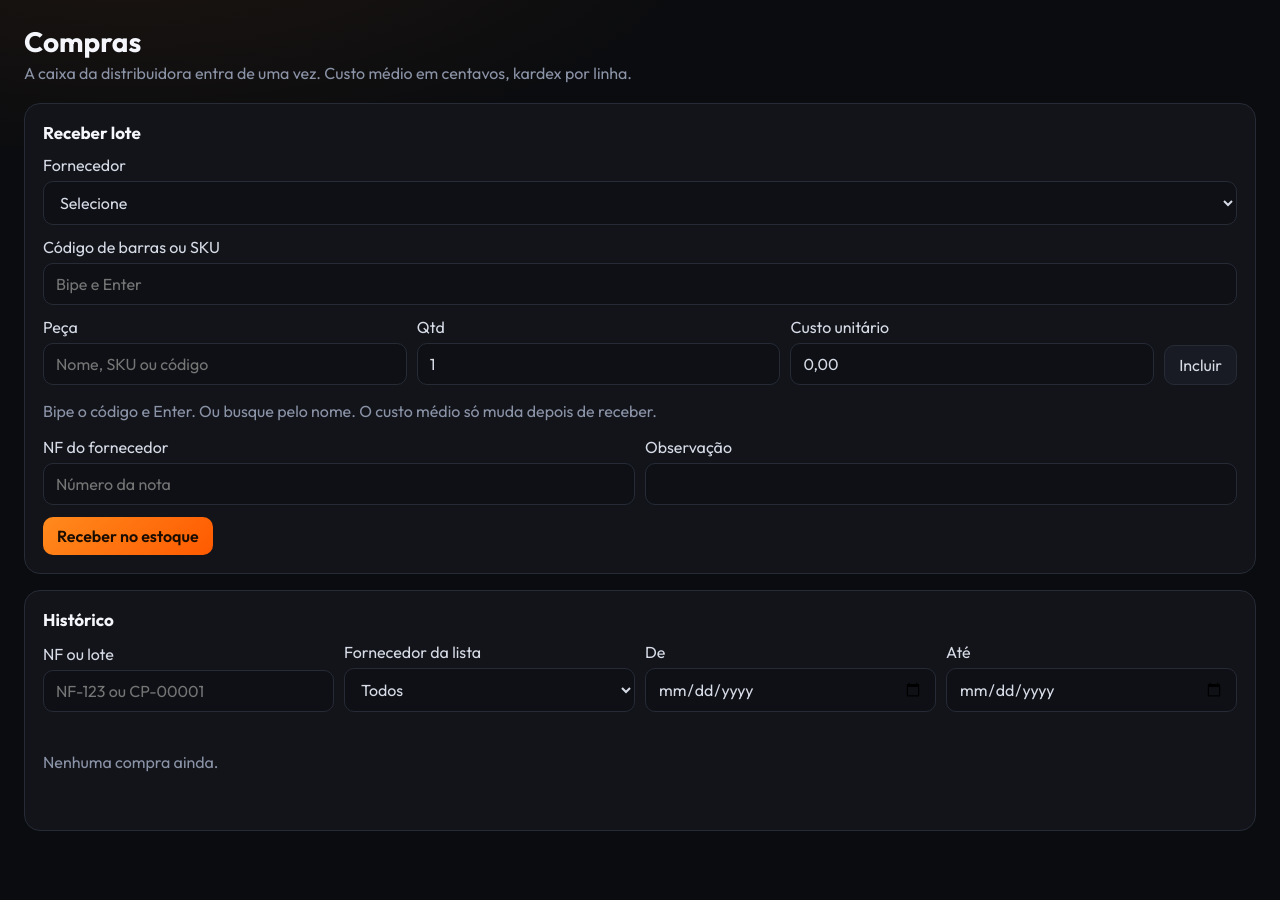
Test: Compras › soma quantidade no segundo bipe da mesma peça
Expected: the text "Nenhuma compra ainda." is shown, x1=43 y1=752 x2=218 y2=772
Type "COR-01" into the field labelled "Código de barras ou SKU".
click(640, 284); type("COR-01")  # box x1=43 y1=263 x2=1237 y2=305
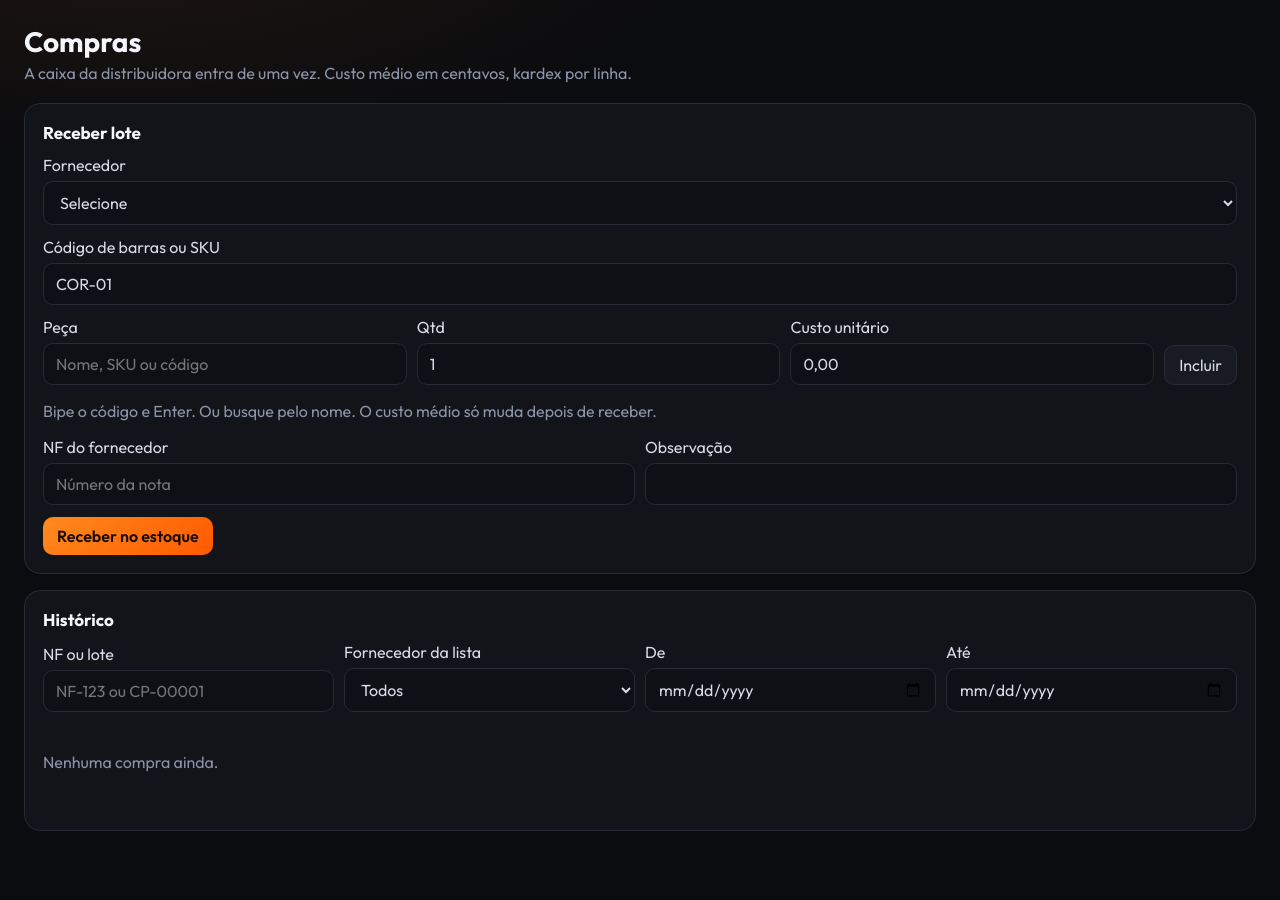
Submit the form labelled "Código de barras ou SKU", box x1=43 y1=237 x2=1237 y2=305
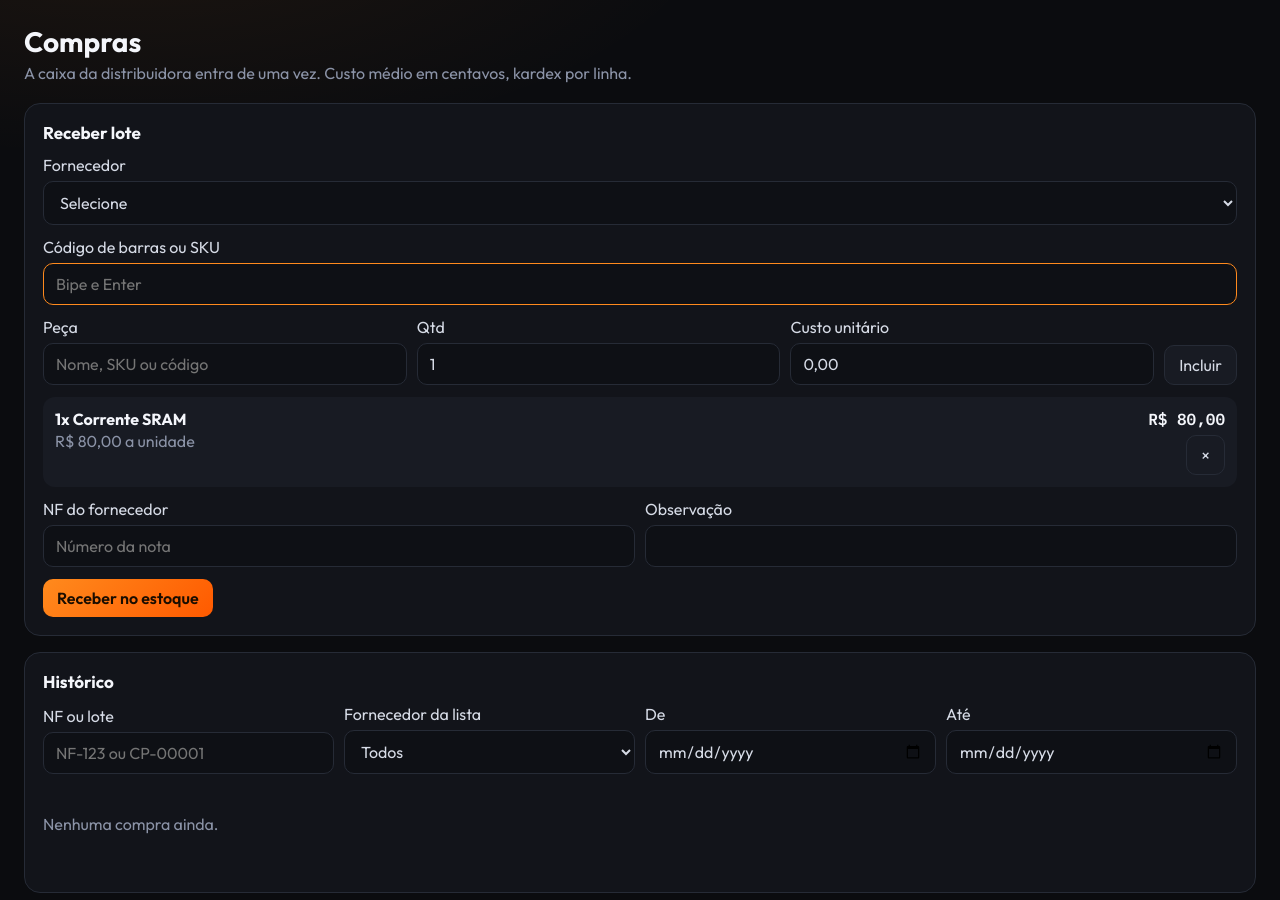
Now the text "1x Corrente SRAM" is shown, box x1=55 y1=409 x2=186 y2=429
Type "COR-01" into the field labelled "Código de barras ou SKU".
click(640, 284); type("COR-01")  # box x1=43 y1=263 x2=1237 y2=305
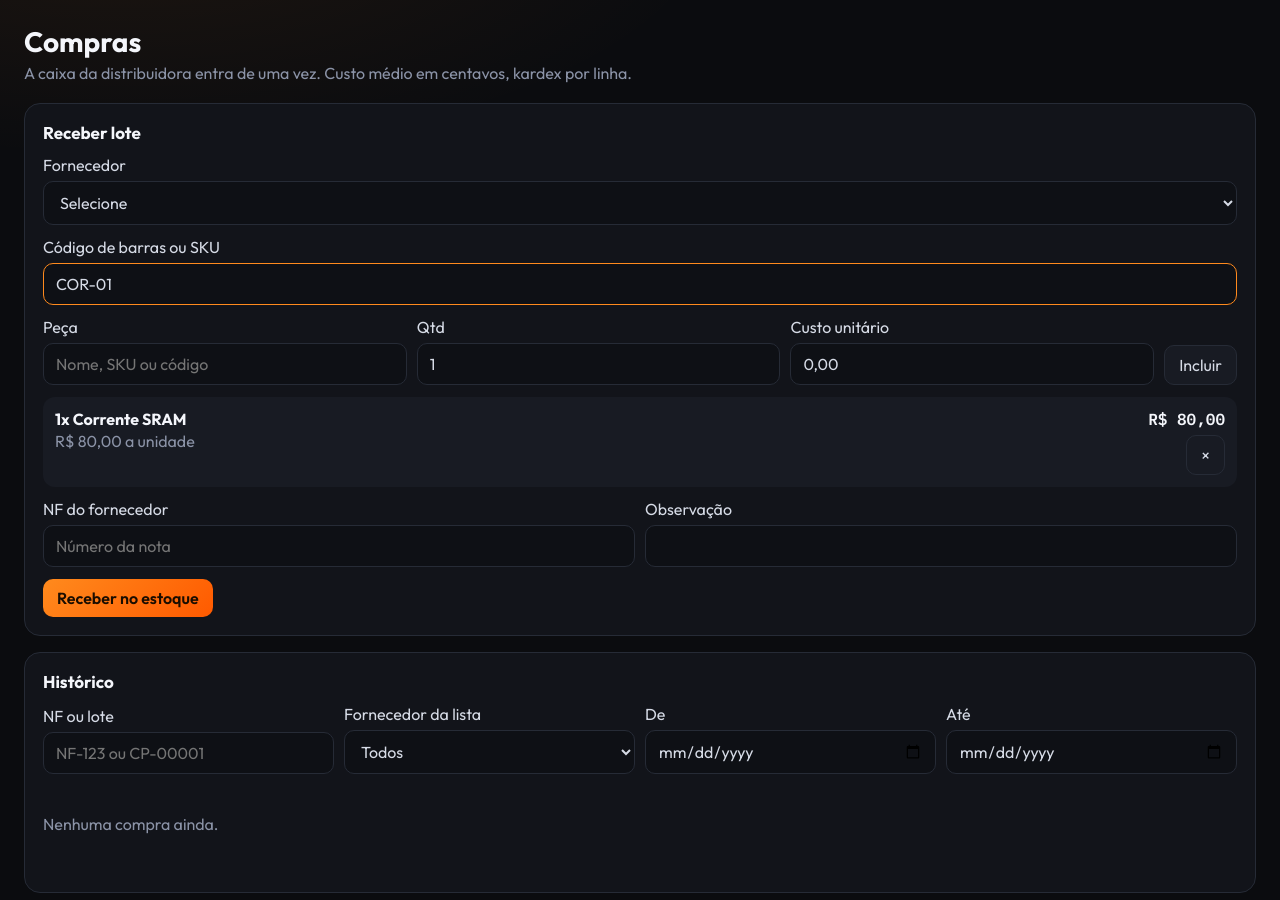
Submit the form labelled "Código de barras ou SKU", box x1=43 y1=237 x2=1237 y2=305
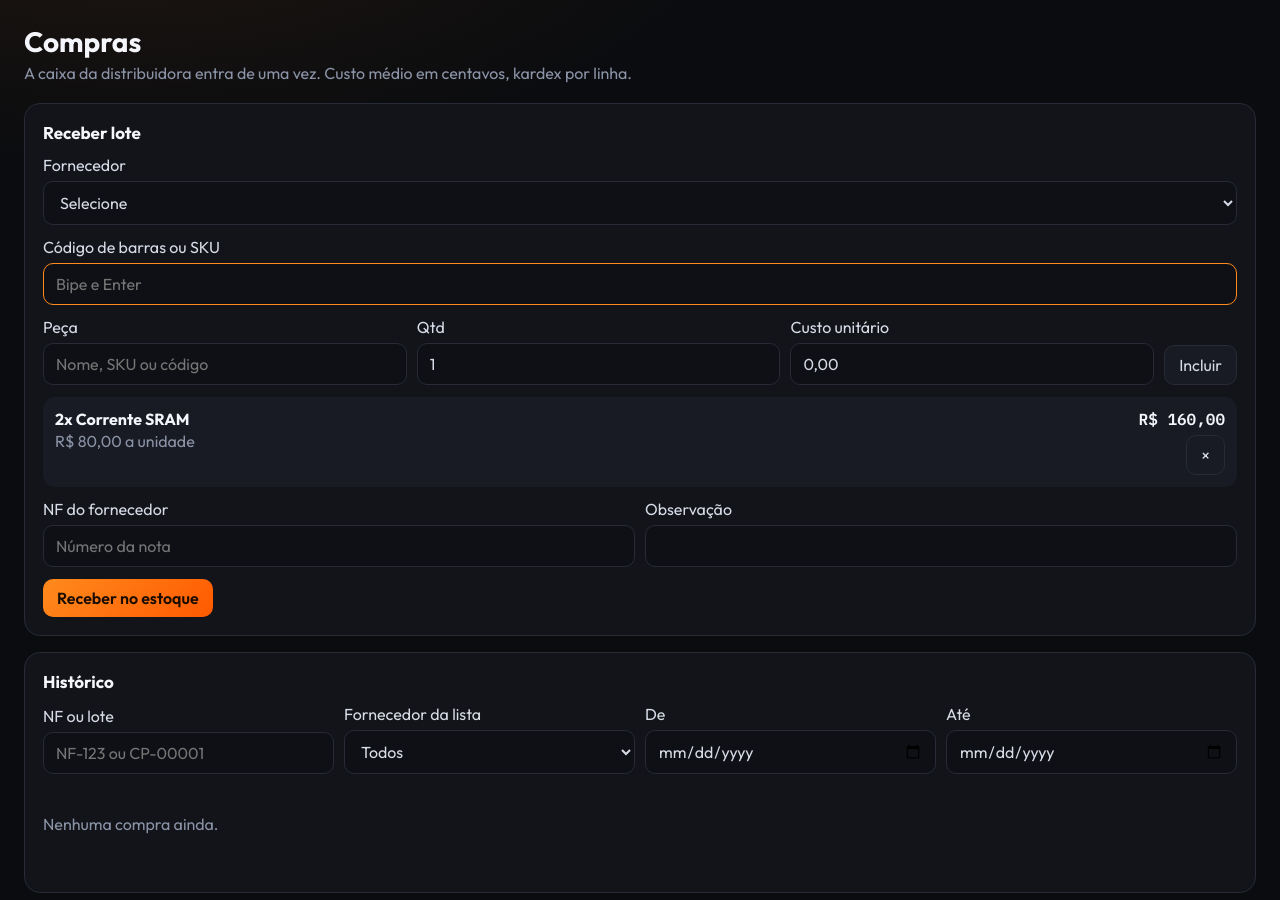
Now the text "2x Corrente SRAM" is shown, box x1=55 y1=409 x2=189 y2=429
